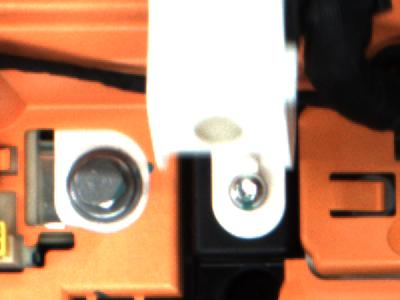nut_b: (64, 145, 142, 227)
